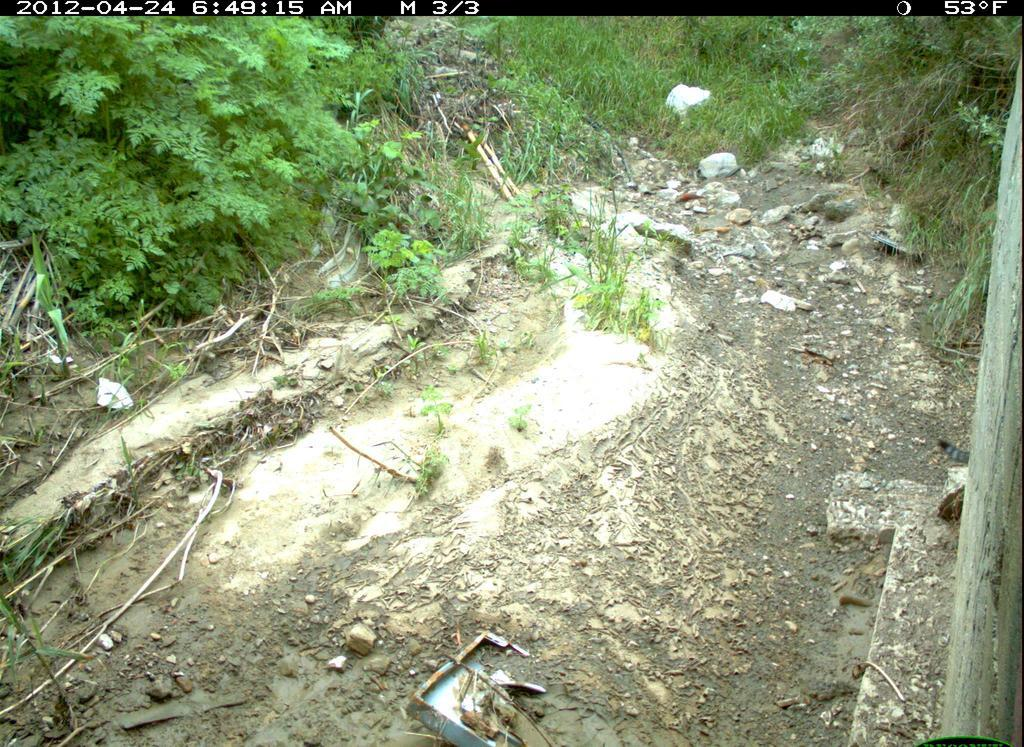cat: (926, 436, 973, 475)
